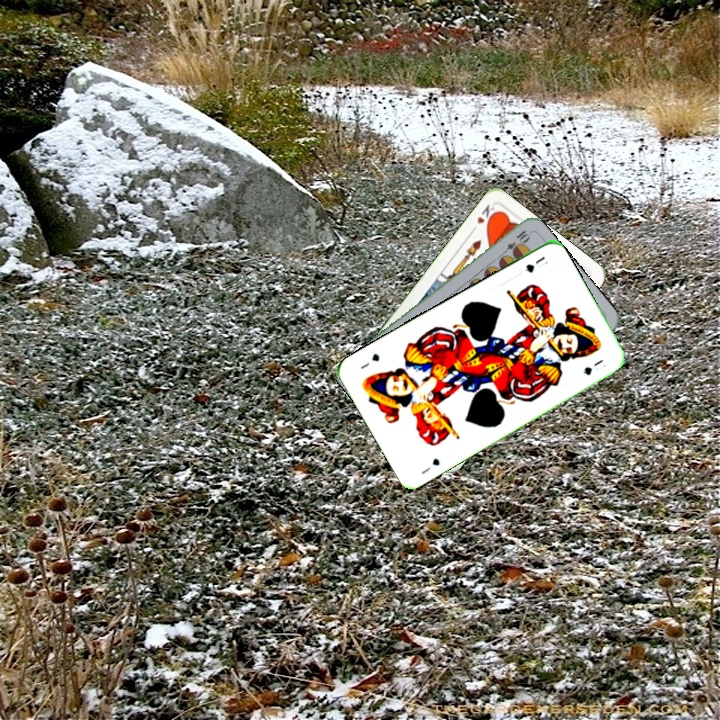E10: (497, 226, 532, 259)
GU: (522, 252, 551, 275), (417, 454, 443, 477)
HK: (466, 200, 500, 236)
